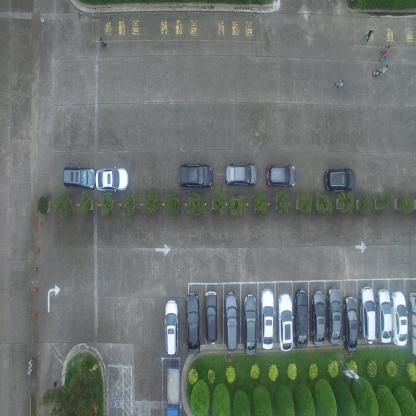car: (358, 286, 376, 346), (184, 292, 201, 355), (163, 298, 180, 357), (176, 162, 213, 188), (278, 292, 294, 352), (242, 292, 257, 356), (260, 288, 275, 351), (94, 166, 130, 192), (376, 288, 392, 345), (223, 290, 238, 350), (265, 159, 297, 187), (391, 291, 407, 347), (164, 363, 181, 415), (295, 288, 309, 350), (224, 163, 258, 188), (203, 290, 218, 346), (327, 285, 341, 345), (343, 296, 358, 352), (325, 166, 357, 192), (62, 166, 96, 190), (311, 289, 325, 347), (408, 290, 416, 357)
